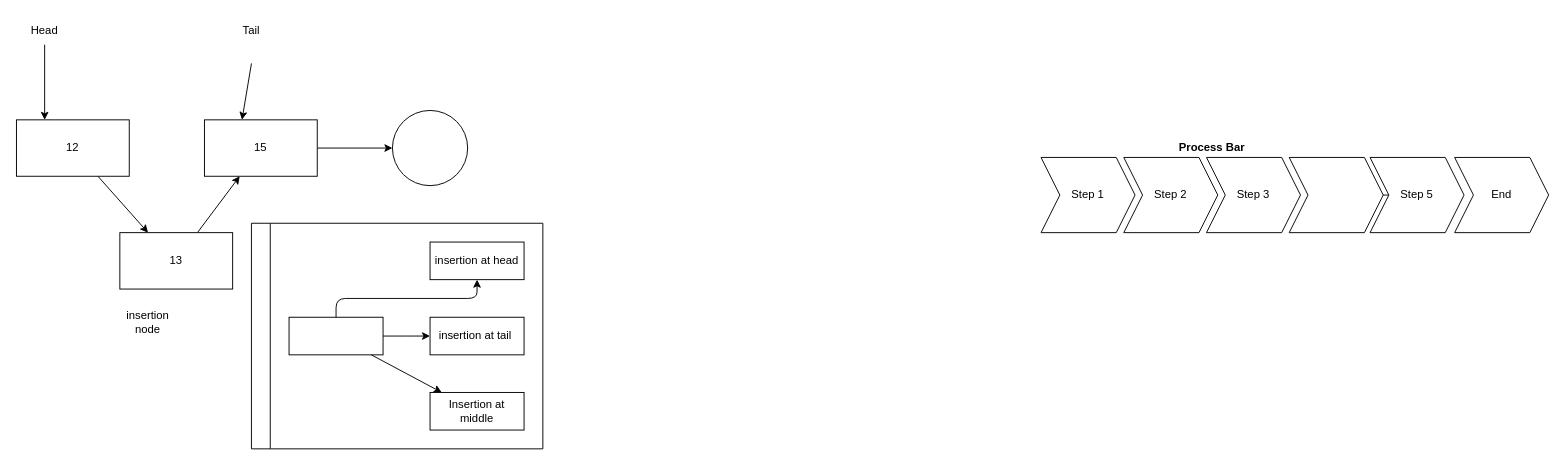
This 1565x465 diagram has some shape labels left out. Here are the shapes that lost their labels. From the top down, the box of each, then its label:
(392, 110, 468, 186): Null
(1288, 157, 1383, 233): Step 4
(288, 316, 383, 355): Insertion
(251, 222, 543, 449): Horizontal Tree Layout
